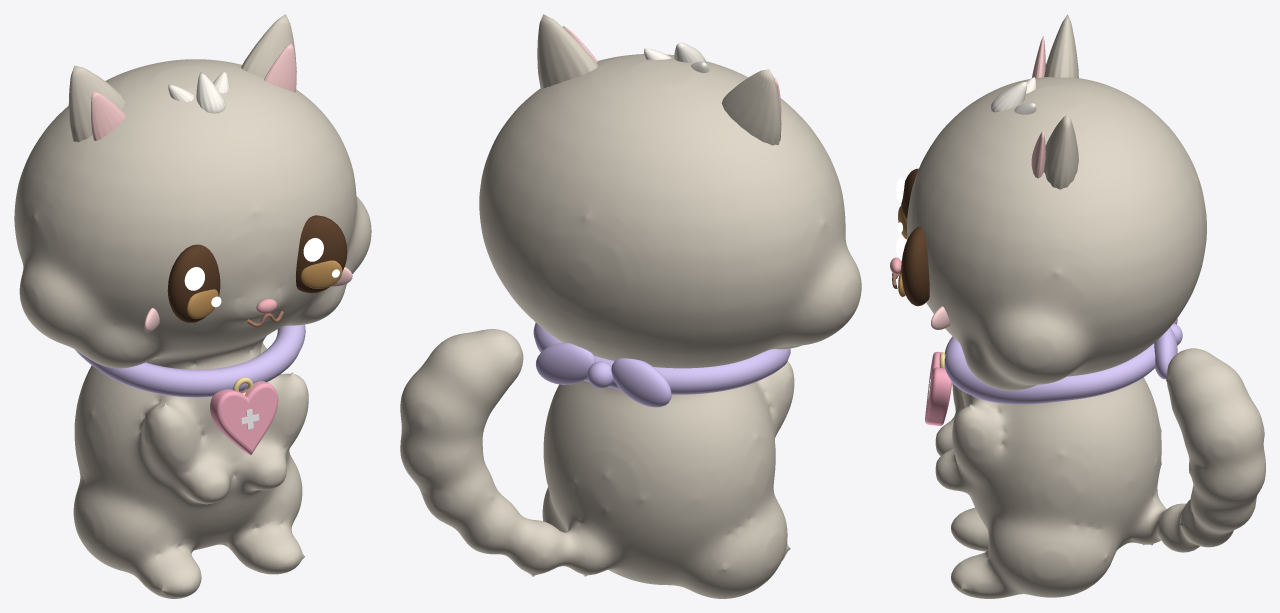
Rendered from chibiru.glb.
3 views of the same model, side by side, from view 1: azimuth 30°, elevation 25°; view 2: azimuth 150°, elevation 25°; view 3: azimuth 270°, elevation 25° (orthographic). The views are drawn at different scales.
Visible parts, largest first — view 1: ChibiruBody, Collar, HeartPendant, Eye_L, Ear_L, Eye_R, Ear_R, EarInner_L, EarInner_R, Iris_R, HeadTuft_0, Iris_L; view 2: ChibiruBody, Collar, Ear_L, Ear_R, CollarBow_L, CollarBow_R; view 3: ChibiruBody, Collar, Ear_R, Eye_R, Ear_L, HeartPendant, CollarBow_R, HeadTuft_0, EarInner_R.
Part boxes in pixels (box(x1,y1,x2,y2)): ChibiruBody: box(14, 59, 371, 598); Collar: box(75, 324, 305, 397); HeartPendant: box(210, 381, 278, 454); Eye_L: box(167, 244, 220, 322); Ear_L: box(68, 65, 125, 142); Eye_R: box(295, 215, 347, 293); Ear_R: box(241, 14, 296, 78); EarInner_L: box(91, 91, 125, 140); EarInner_R: box(264, 43, 296, 92); Iris_R: box(301, 260, 342, 288); HeadTuft_0: box(196, 72, 225, 113); Iris_L: box(187, 289, 218, 318); ChibiruBody: box(400, 54, 861, 598); Collar: box(533, 322, 790, 394); Ear_L: box(721, 69, 781, 145); Ear_R: box(537, 14, 598, 88); CollarBow_L: box(611, 358, 671, 407); CollarBow_R: box(535, 343, 595, 384); ChibiruBody: box(907, 77, 1265, 598); Collar: box(944, 336, 1155, 404); Ear_R: box(1044, 115, 1078, 189); Eye_R: box(901, 226, 929, 306); Ear_L: box(1044, 14, 1078, 77); HeartPendant: box(925, 351, 952, 425); CollarBow_R: box(1154, 328, 1177, 379); HeadTuft_0: box(990, 81, 1026, 112); EarInner_R: box(1031, 131, 1045, 178).
Bounding box in the file's own units: 1.53 × 2.22 × 1.5.
